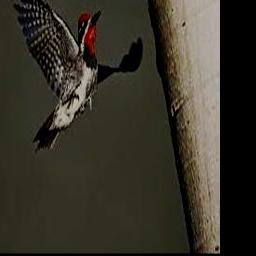Woodpecker: (13, 0, 142, 151)
